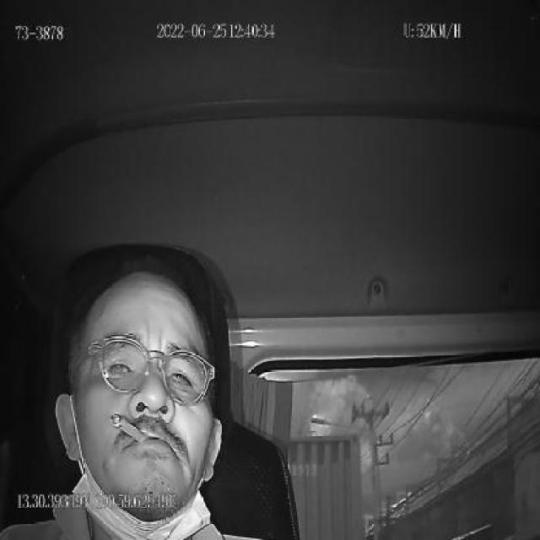smoking: (110, 411, 150, 445)
